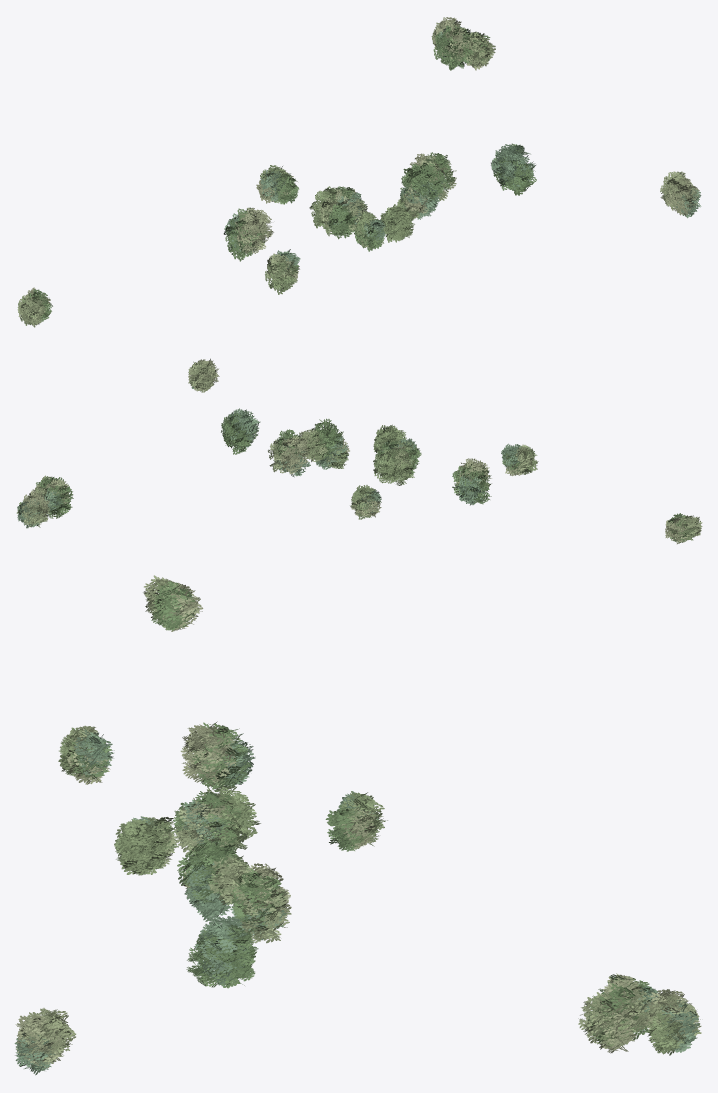
Rendered from campus-tree--2_-3-near.glb.
The picture shows the model from 3 angles, top to bottom: view 1: azimuth 30°, elevation 25°; view 2: azimuth 150°, elevation 25°; view 3: azimuth 270°, elevation 25°; orthographic projection. The views are drawn at different scales.
Parts seen in each view (by area): view 1: Campus leaf canopy; view 2: Campus leaf canopy; view 3: Campus leaf canopy.
Part boxes in pixels (<box>): Campus leaf canopy: <box>17,17,701,327</box>; Campus leaf canopy: <box>16,358,702,544</box>; Campus leaf canopy: <box>14,575,701,1075</box>.
Bounding box in the file's own units: 81.96 × 7.5 × 51.97.
Materials: 1 (1 with a texture image).
